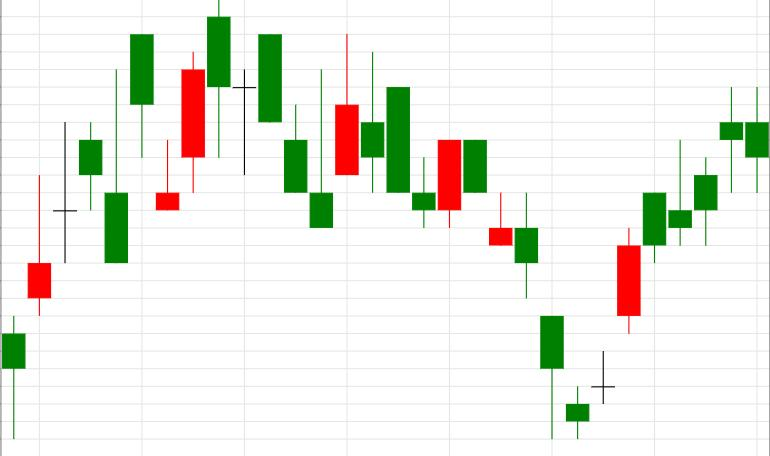bullish_engulfing_rise: (361, 52, 461, 228)
hammer_rise: (463, 139, 564, 439)
inverse_hammer_rise: (208, 1, 333, 227)
